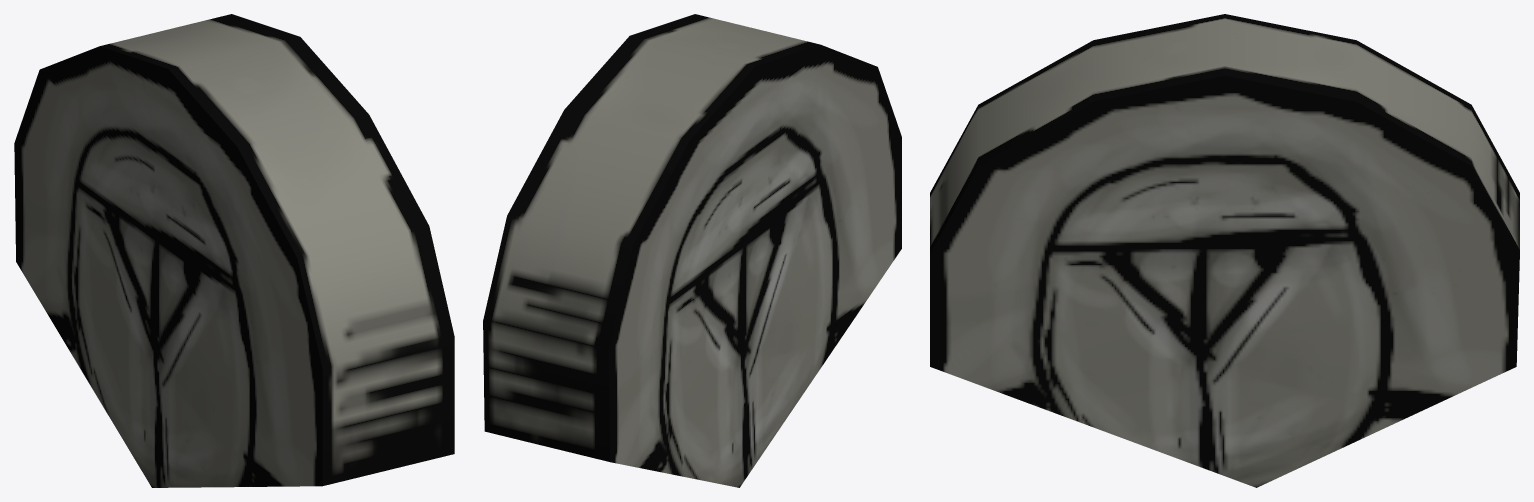
The model's file is tombstone_06_gib3.fbx.
The picture shows the model from 3 angles, left to right: view 1: azimuth 30°, elevation 25°; view 2: azimuth 150°, elevation 25°; view 3: azimuth 270°, elevation 25°; orthographic projection. The views are drawn at different scales.
Visible parts, largest first — view 1: tombstone_06_gib3; view 2: tombstone_06_gib3; view 3: tombstone_06_gib3.
Part boxes in pixels (x1,y1,x2,y2): tombstone_06_gib3: [14, 14, 454, 487]; tombstone_06_gib3: [483, 14, 901, 487]; tombstone_06_gib3: [930, 14, 1519, 487].
Bounding box in the file's own units: 1 × 3.12 × 4.04.
